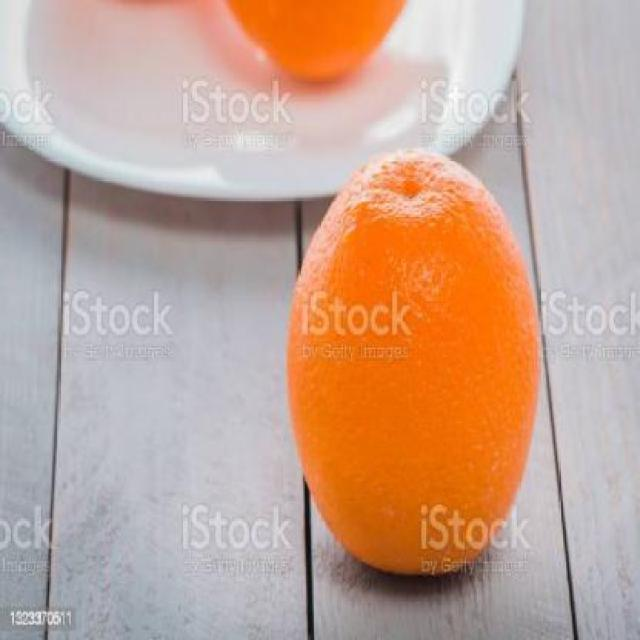Orange: (283, 146, 542, 577), (208, 0, 415, 82)
